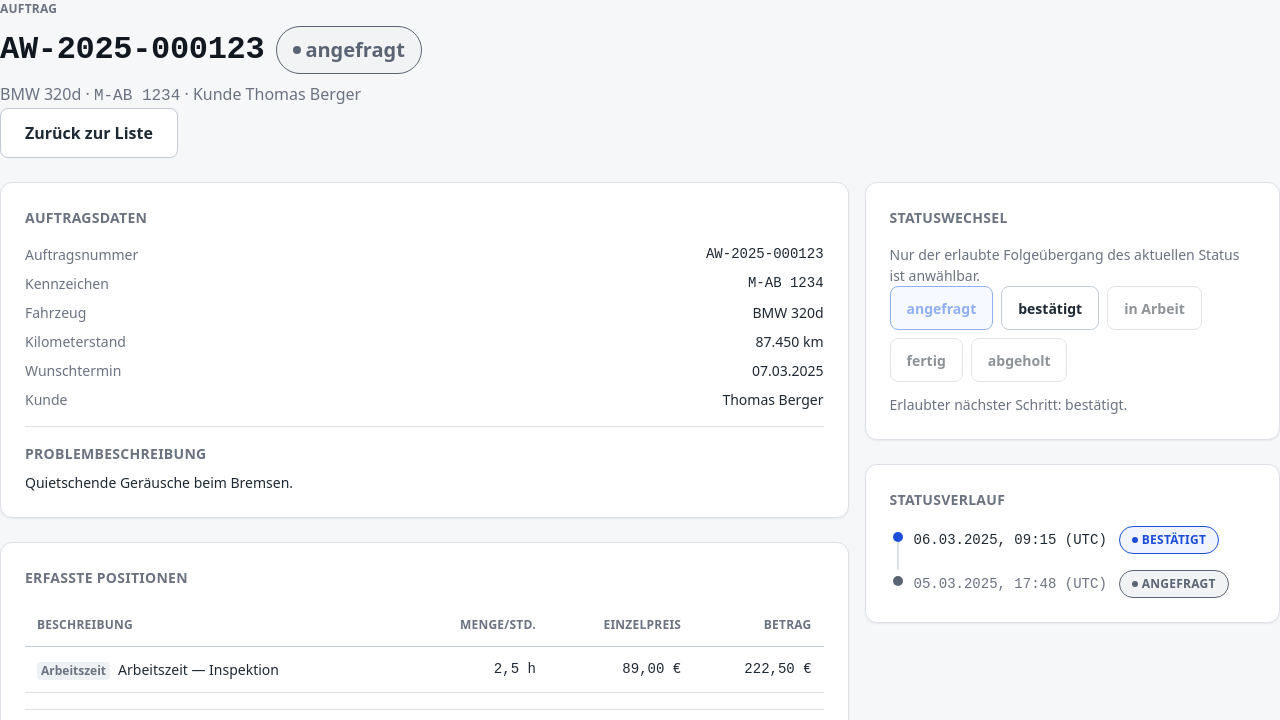
it: ShopOrderDetail transitions › confirms a requested order and shows it as bestätigt right away
Expected: the heading "AW-2025-000123" is shown, [0,30,264,70]
Click the button "bestätigt" at {"x": 1050, "y": 308}, box [1001,286,1099,330]
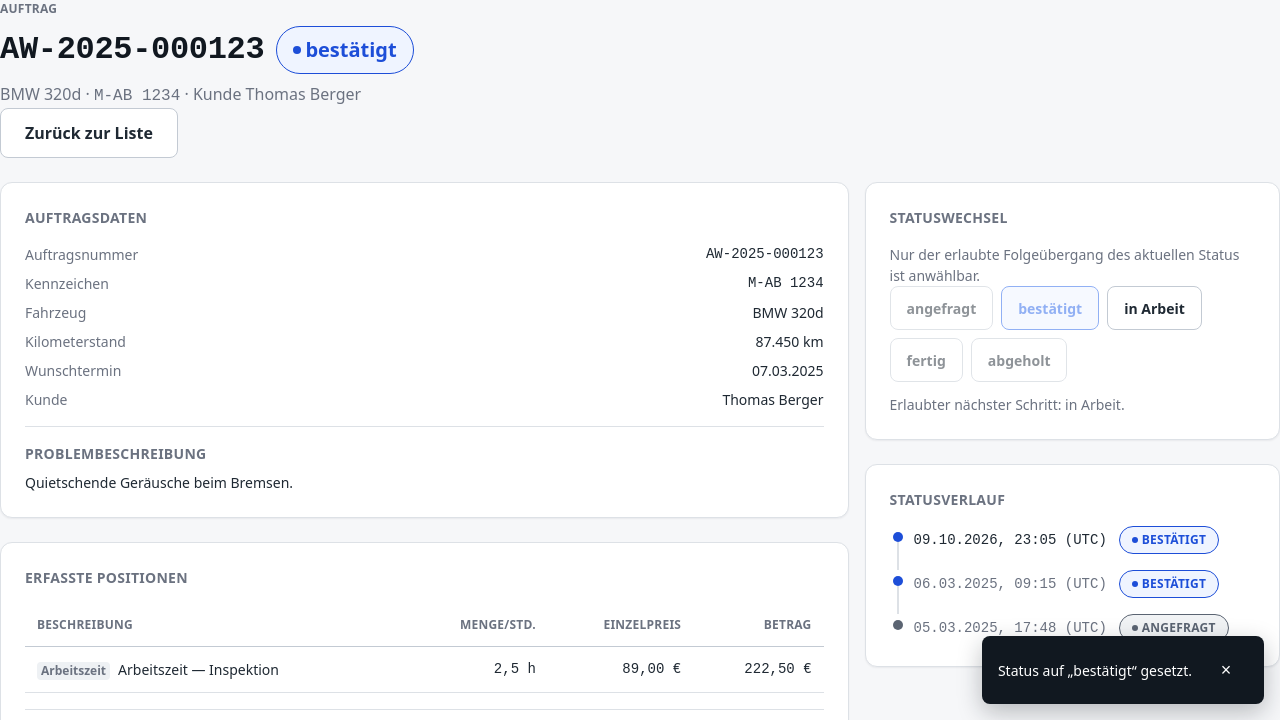
Now the 1st text "bestätigt" is shown, box [276,26,414,74]
